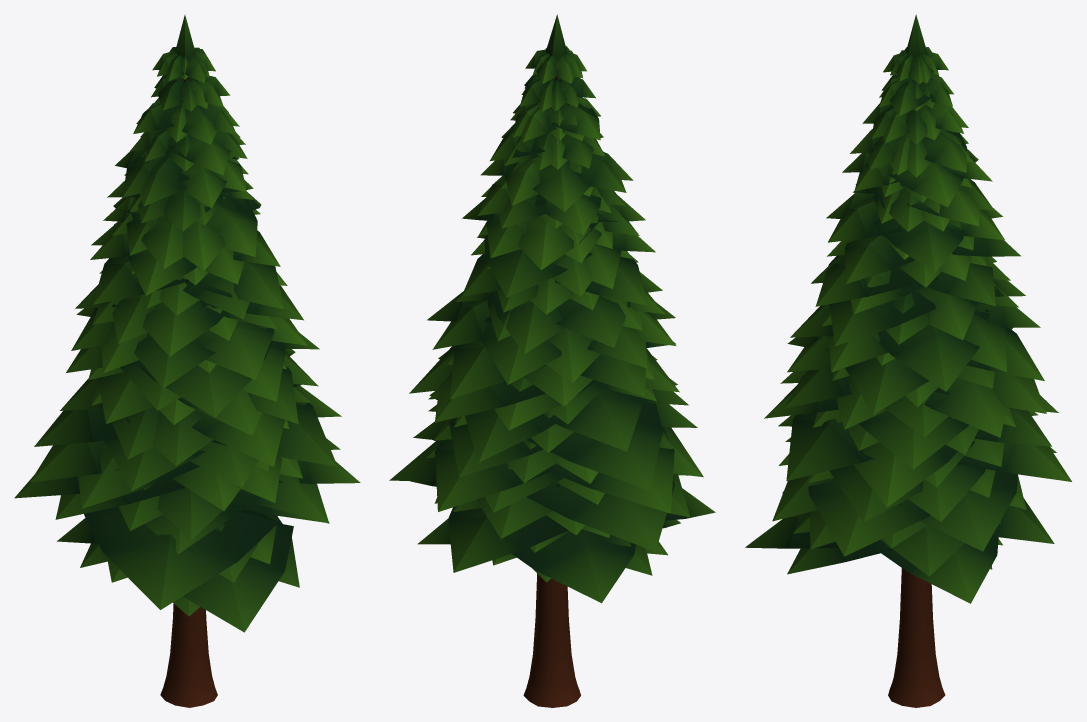
The model's file is douglas-fir.glb.
3 views of the same model, side by side, from view 1: azimuth 30°, elevation 25°; view 2: azimuth 150°, elevation 25°; view 3: azimuth 270°, elevation 25° (orthographic).
Visible parts, largest first — view 1: douglas-fir.Leaves, douglas-fir.Bark; view 2: douglas-fir.Leaves, douglas-fir.Bark; view 3: douglas-fir.Leaves, douglas-fir.Bark.
Boxes of the visible parts, left/top/right/bottom form: douglas-fir.Leaves: left=14, top=15, right=360, bottom=632; douglas-fir.Bark: left=160, top=78, right=217, bottom=707; douglas-fir.Leaves: left=389, top=14, right=715, bottom=603; douglas-fir.Bark: left=523, top=77, right=580, bottom=707; douglas-fir.Leaves: left=745, top=14, right=1071, bottom=603; douglas-fir.Bark: left=888, top=568, right=945, bottom=707.
Size of the model in its own units: 5.95 by 14 by 6.13.
